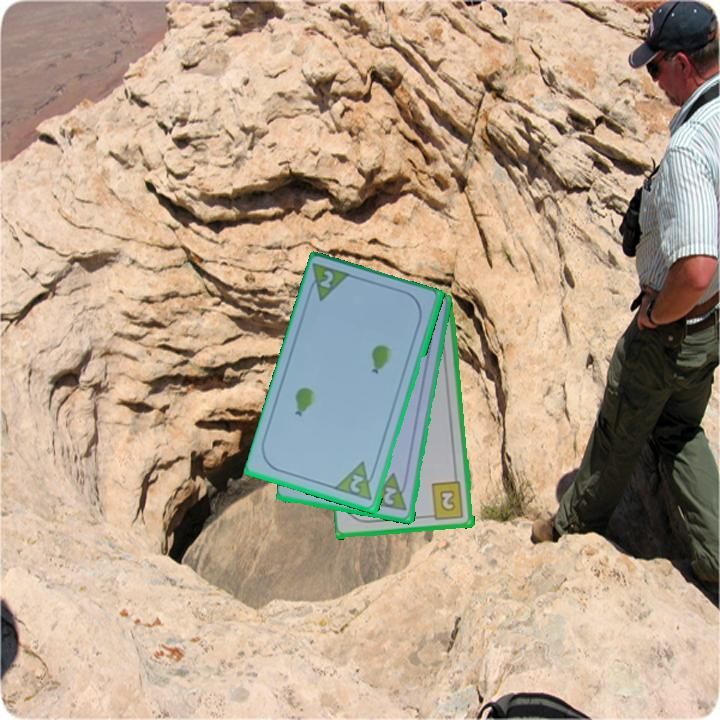2b: (425, 479, 467, 523)
2p: (367, 471, 411, 514), (346, 471, 368, 496), (316, 267, 337, 292)
